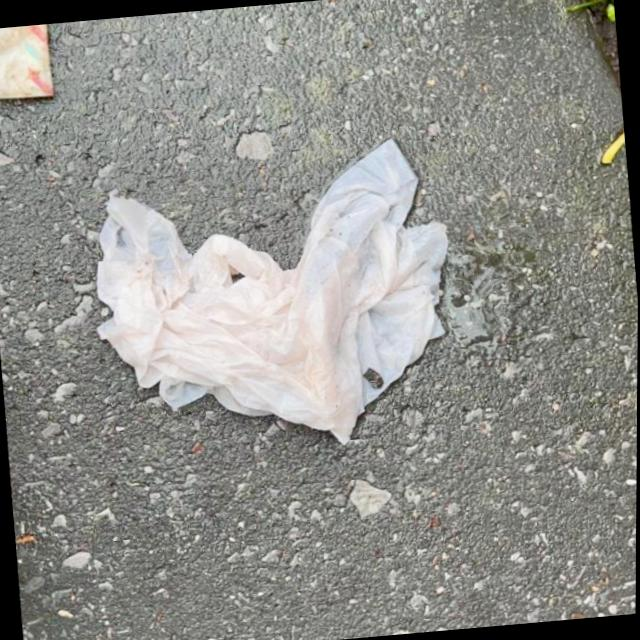Paper: (80, 130, 468, 467), (0, 22, 59, 103)
